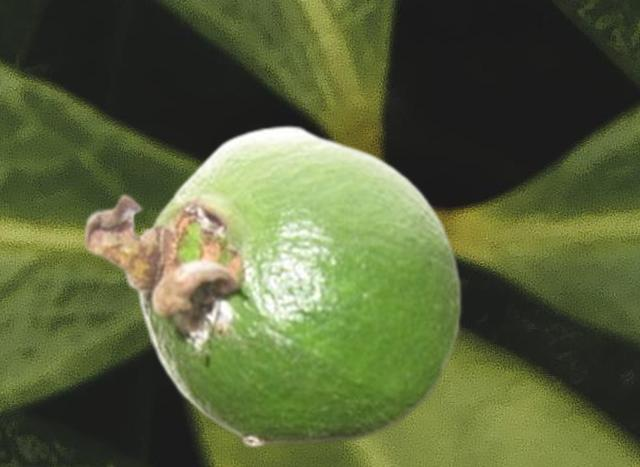guava: (81, 123, 464, 447)
